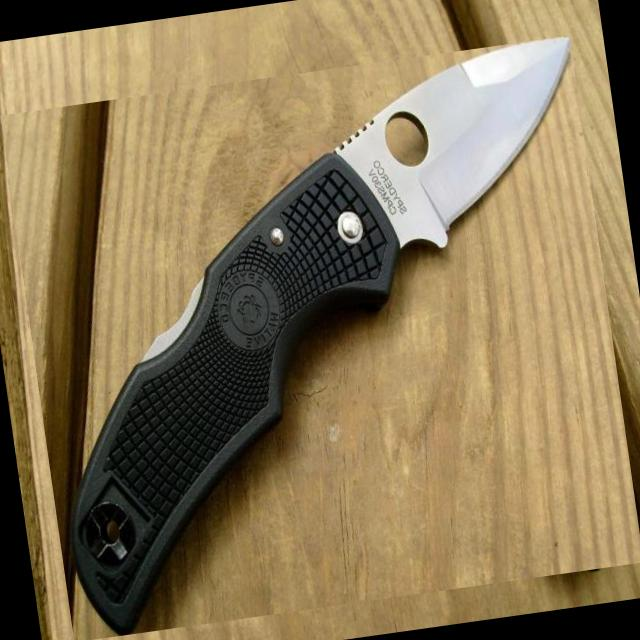Knife: (62, 37, 570, 635)
